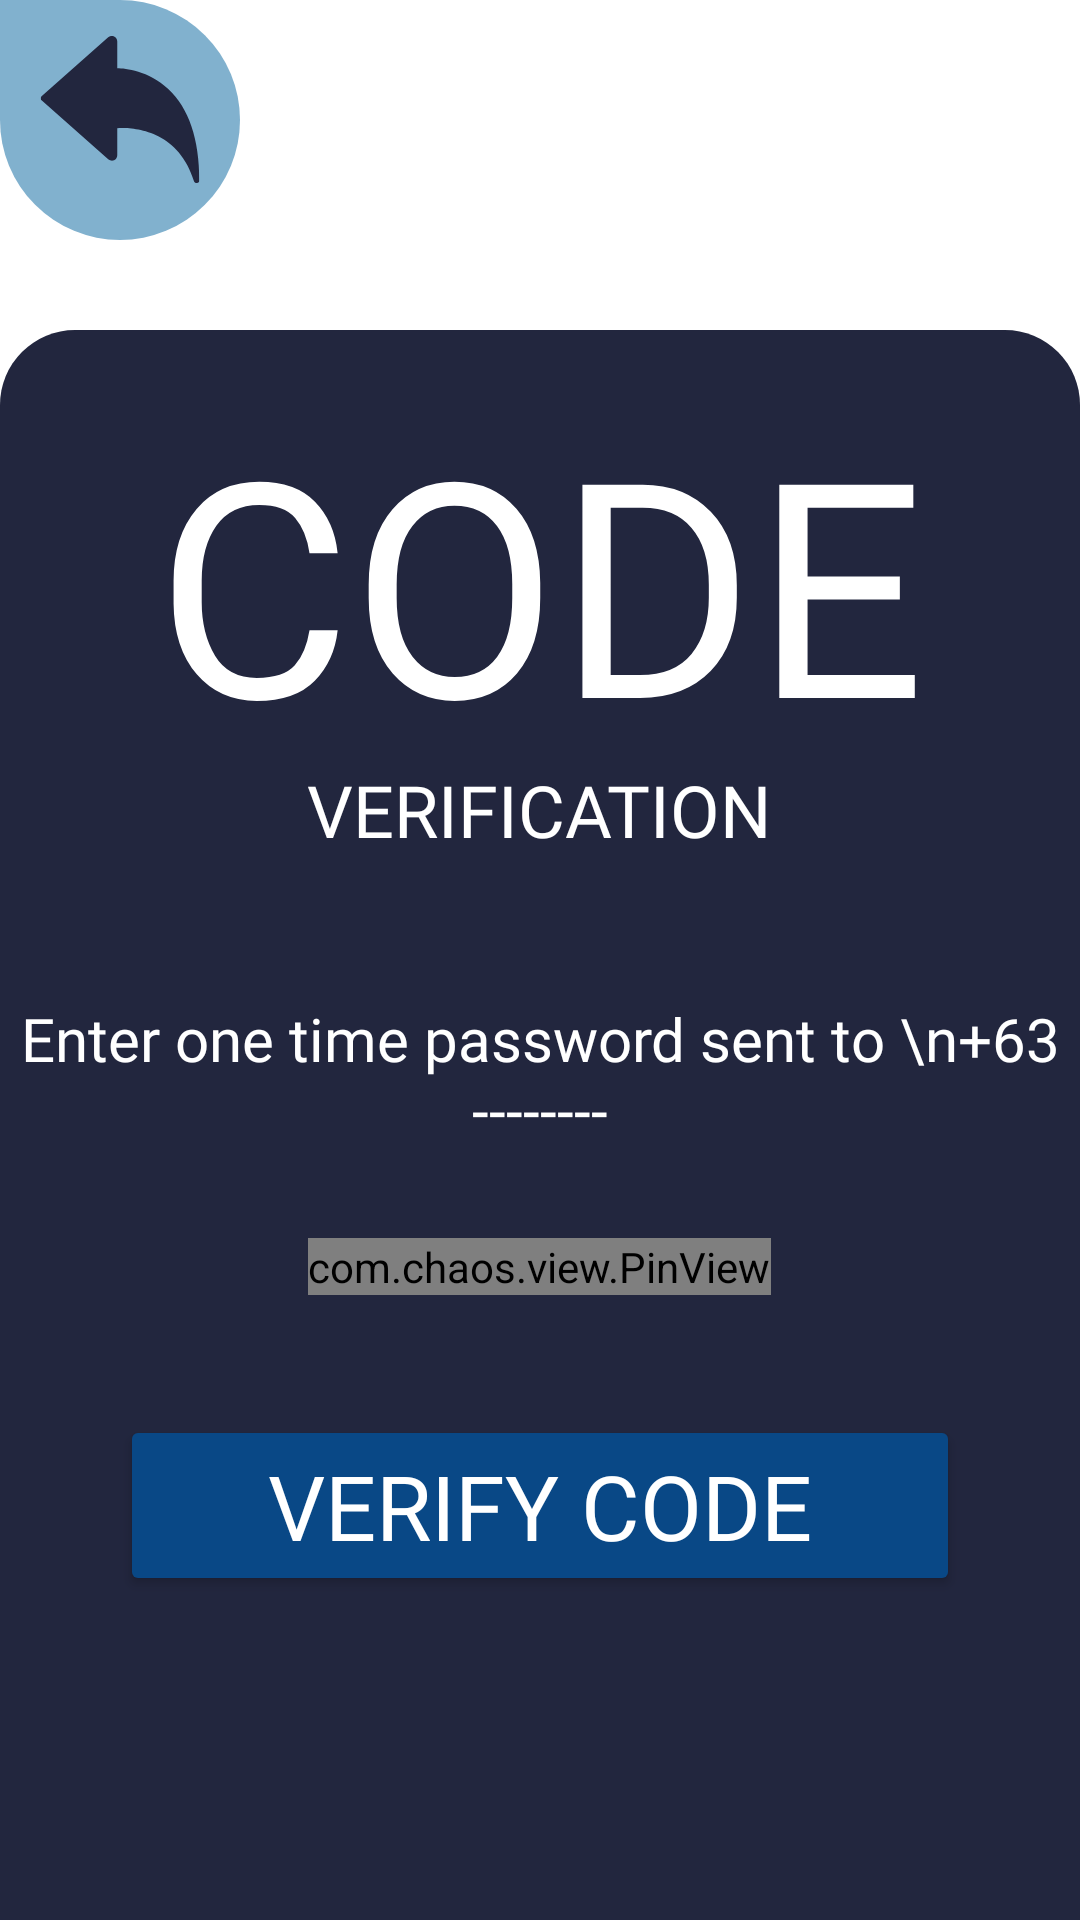

Screen size 1080x1920. Icon name, then its box in pixels as region(x1, y1, x2, y2):
back: region(41, 36, 199, 183)
